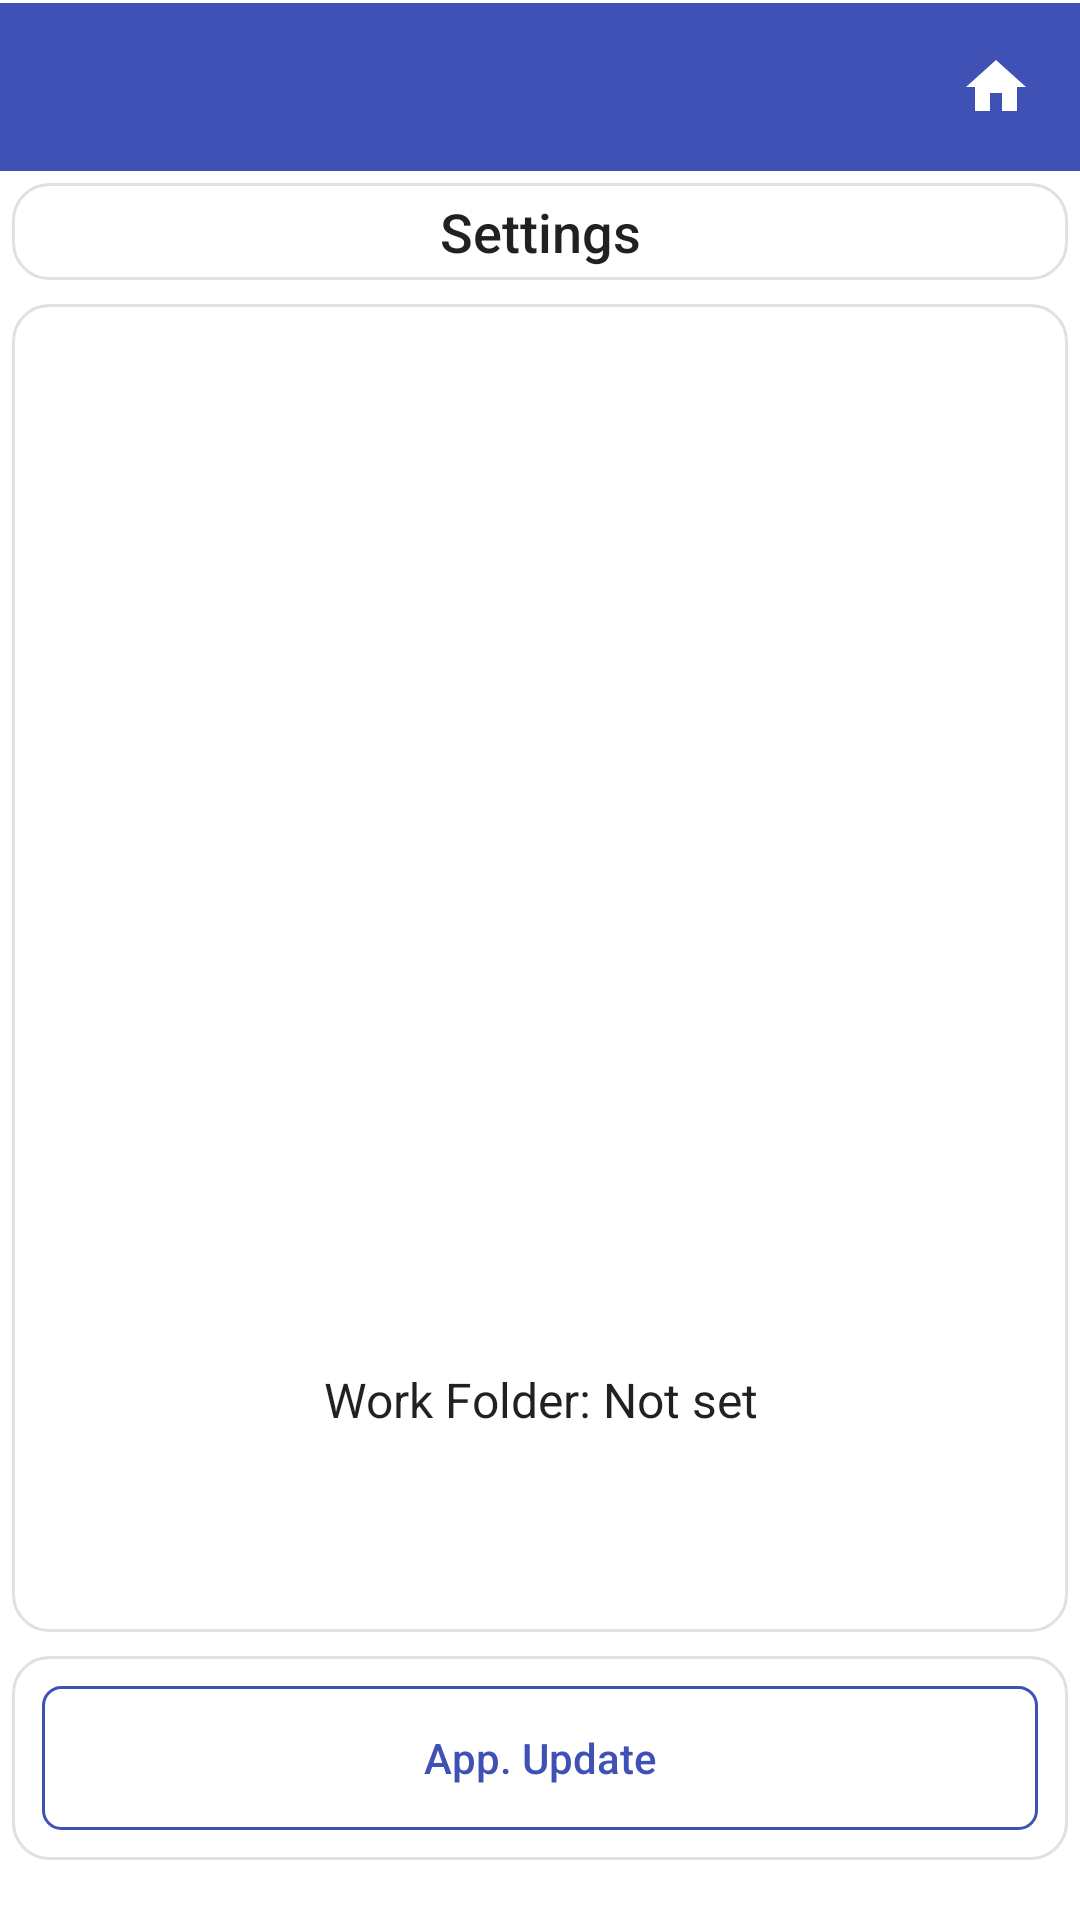

Where icons sit on this 1080px x 1920px app screen, as (x1, y1, x2, y2):
Home: (966, 60, 1026, 111)
